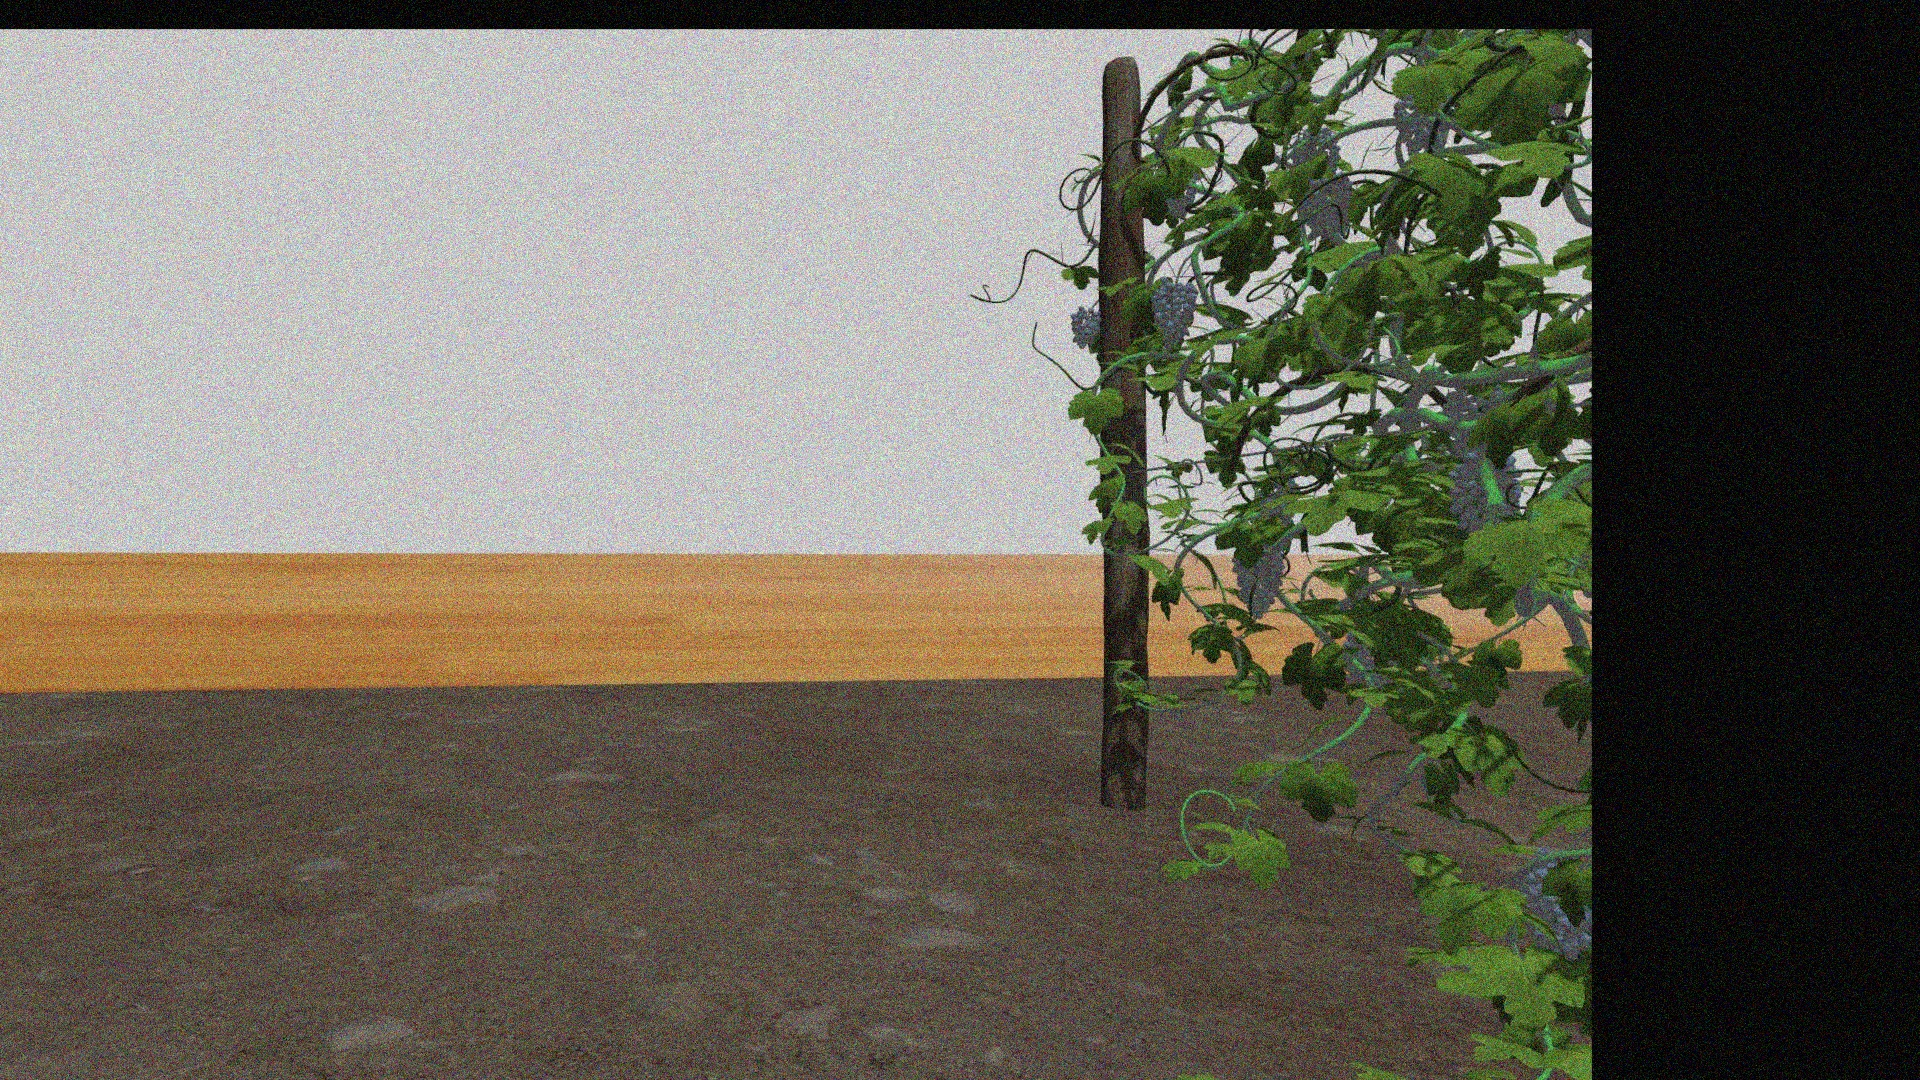grape: (1520, 851, 1586, 964), (1451, 454, 1522, 531), (1230, 545, 1284, 618), (1149, 277, 1196, 351), (1393, 95, 1449, 154), (1304, 174, 1353, 233), (1069, 305, 1102, 351)
